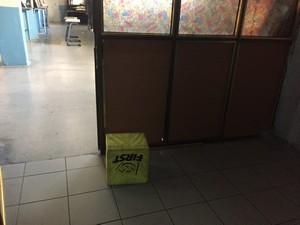cube: (102, 133, 152, 185)
